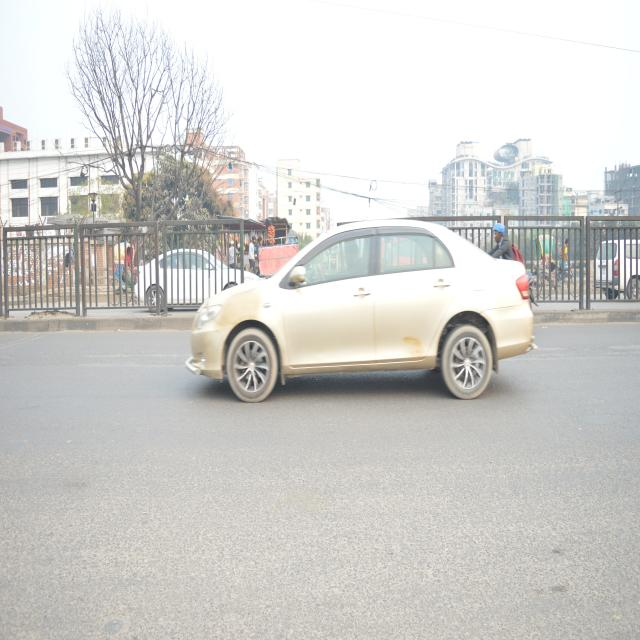car: (191, 220, 537, 414), (126, 247, 252, 323)
microbus: (593, 228, 640, 322)
